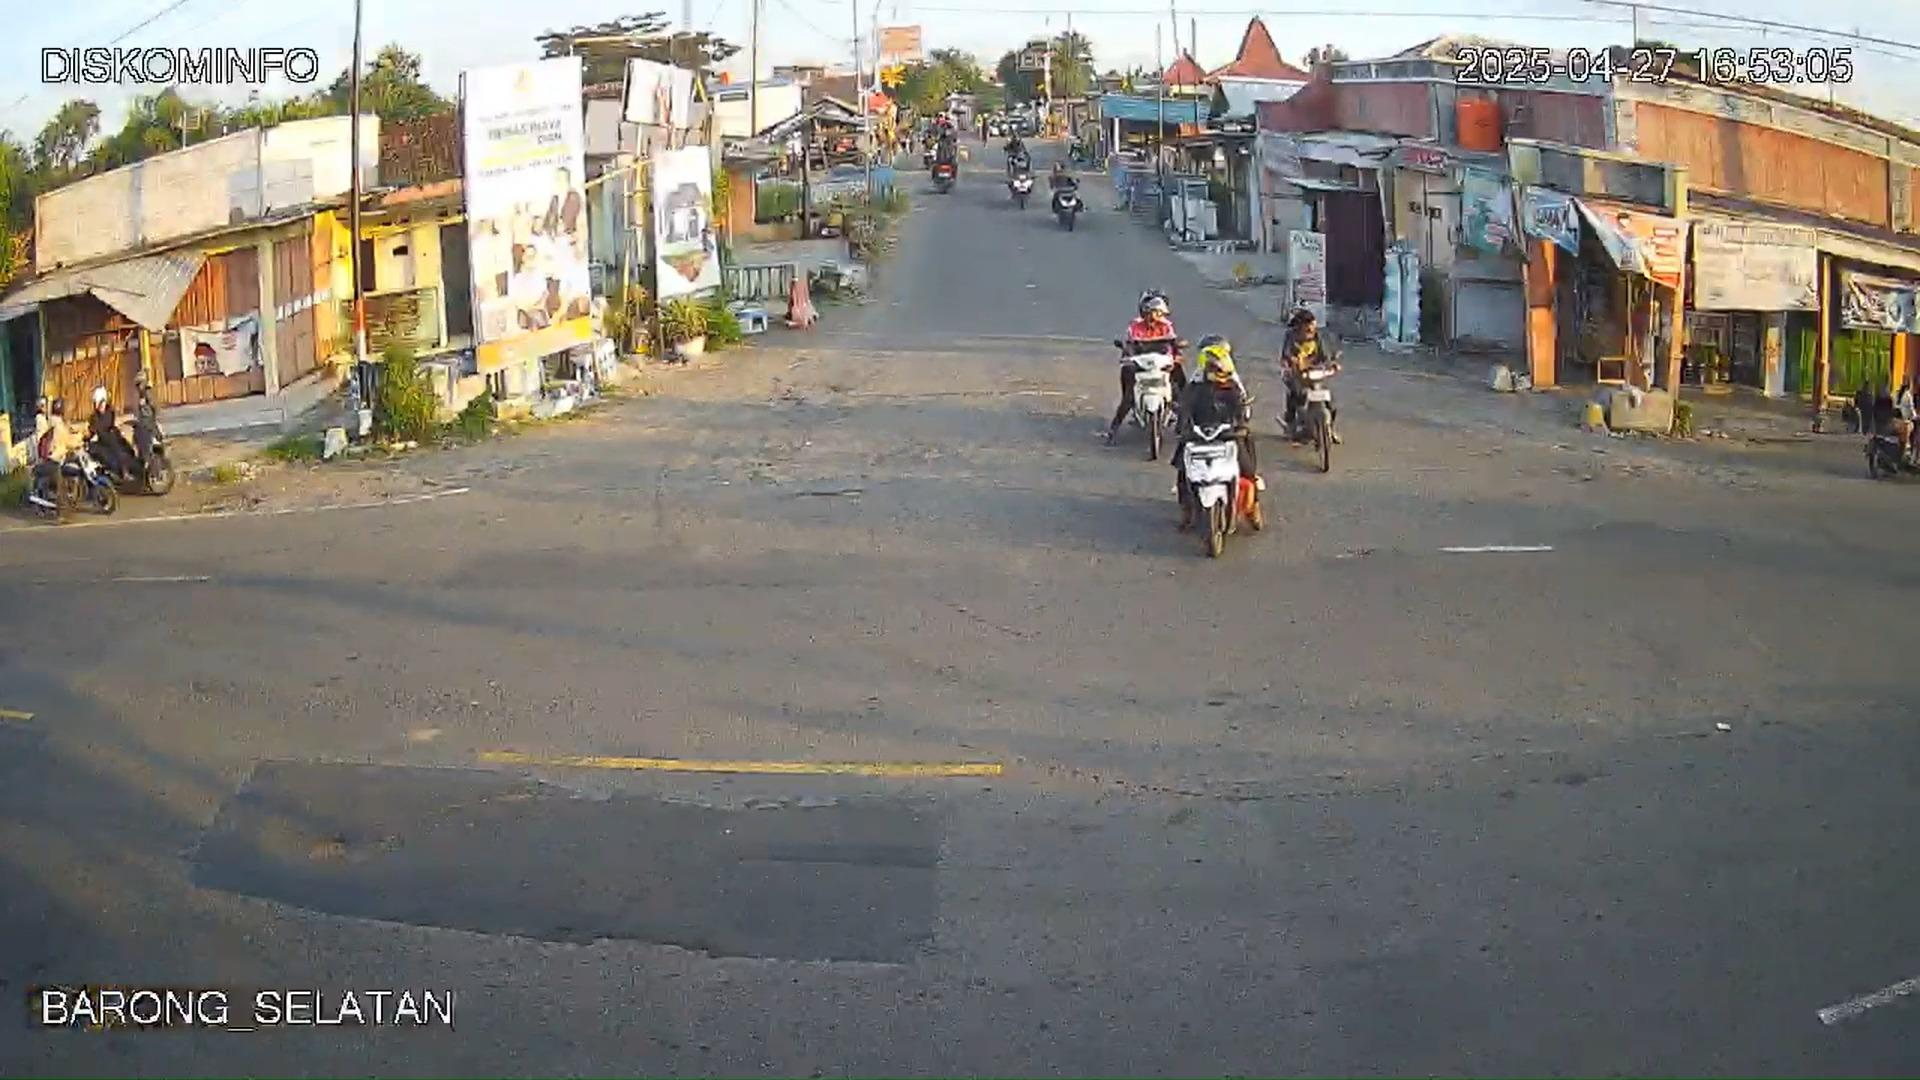Motor: (1168, 394, 1258, 559), (74, 407, 175, 504), (1116, 336, 1189, 463), (24, 426, 121, 520), (1283, 355, 1346, 475)
